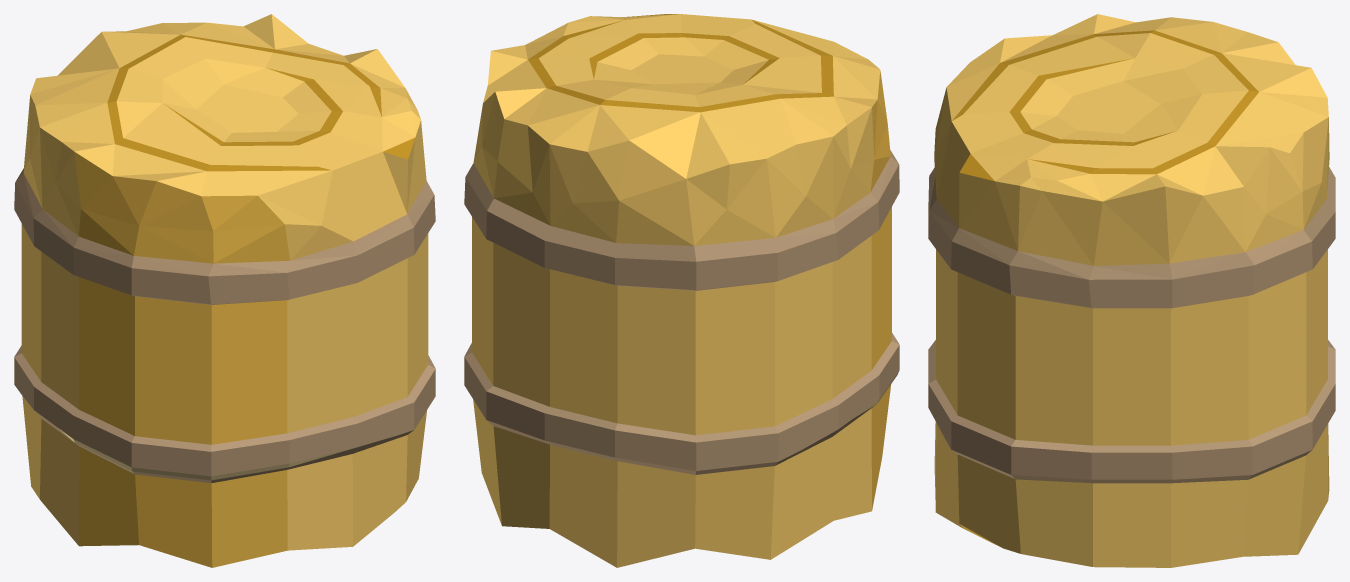
Rendered from EA_M_HayBale_Yellow_01a.fbx.
3 renders of one model, left to right at view 1: azimuth 30°, elevation 25°; view 2: azimuth 150°, elevation 25°; view 3: azimuth 270°, elevation 25°, orthographic. The views are drawn at different scales.
Visible parts, largest first — view 1: EA_M_HayBale_Yellow_01a_LOD0; view 2: EA_M_HayBale_Yellow_01a_LOD0; view 3: EA_M_HayBale_Yellow_01a_LOD0.
Part boxes in pixels (x1=…): EA_M_HayBale_Yellow_01a_LOD0: x1=14, y1=14, x2=435, y2=567; EA_M_HayBale_Yellow_01a_LOD0: x1=464, y1=14, x2=899, y2=567; EA_M_HayBale_Yellow_01a_LOD0: x1=928, y1=14, x2=1335, y2=567.
Size of what is drawn, in the model's own units: 0.8359 by 0.9809 by 0.8359.
